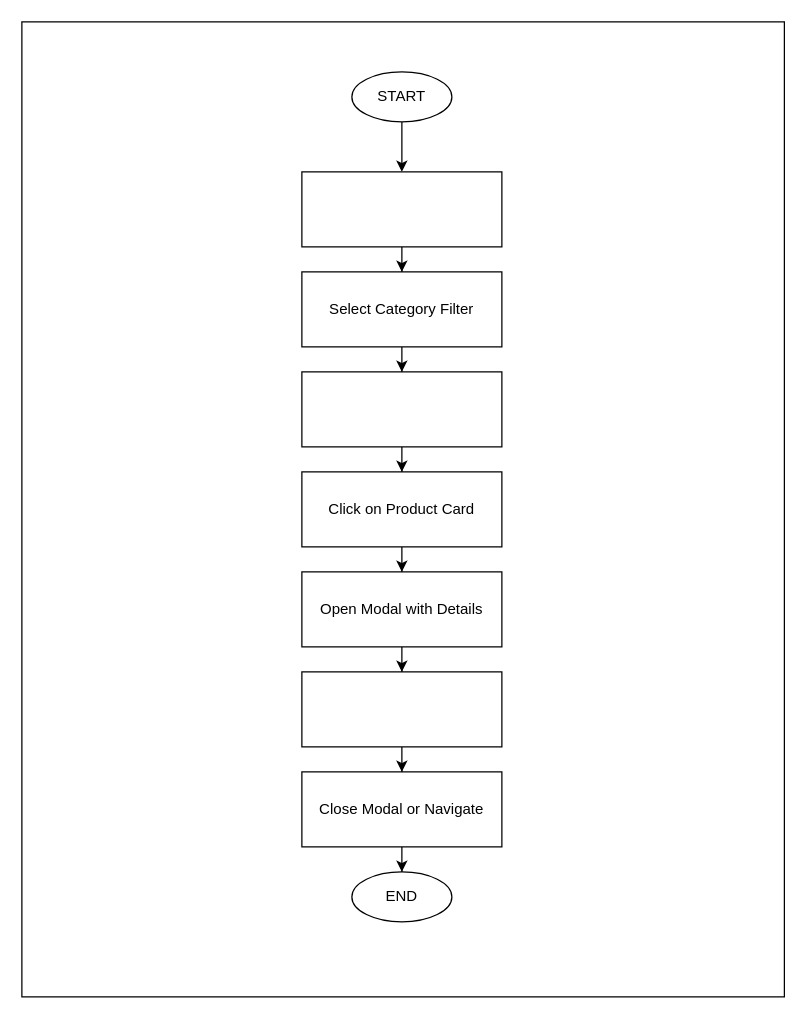
Some shapes in this 806 by 1019 pixel diagram are drawn without their labels. The centre of each missing label's shape, as x and y in pixels:
"Display Filtered Products" goes at point 401,409.
"User Views Products Page" goes at point 401,209.
"View Product Information" goes at point 401,709.
